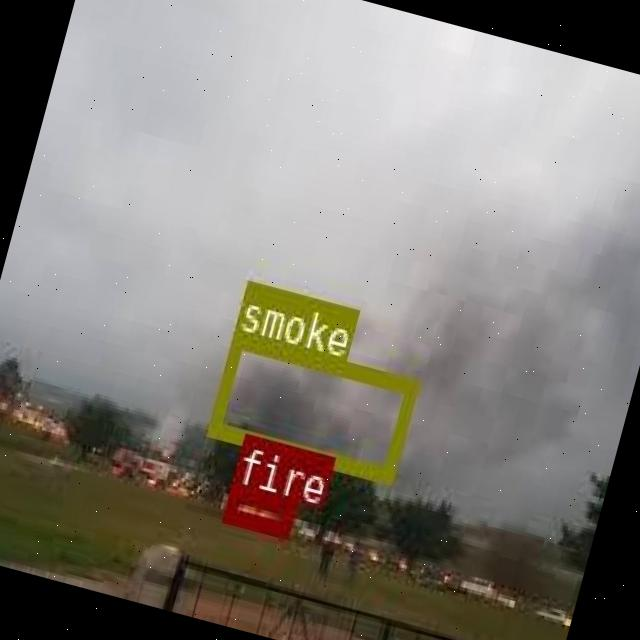fire: (222, 482, 294, 534)
smoke: (206, 329, 416, 479)
